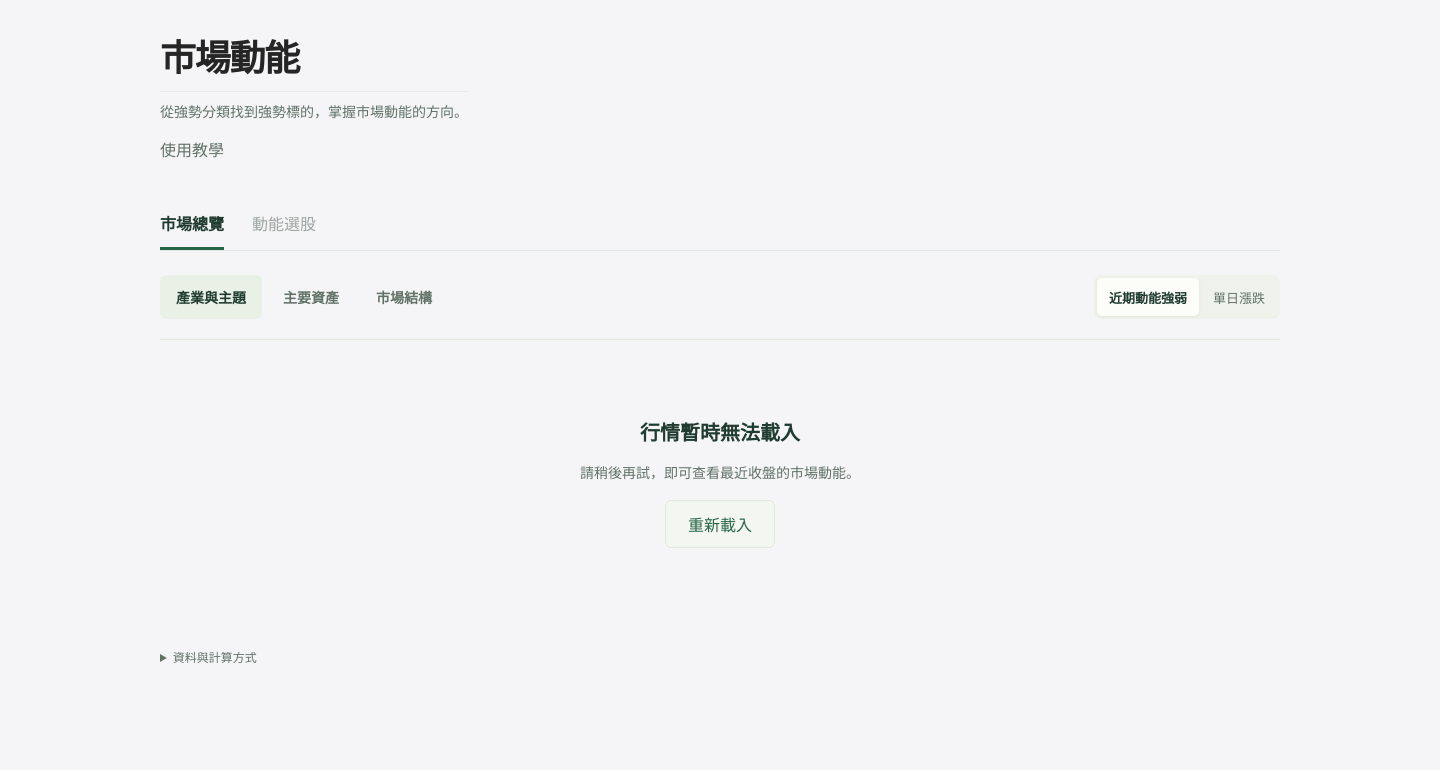
Test case: MomentumDashboardPage › recovers from a failed request with retry
The image size is (1440, 770).
Expected: the message shows "行情暫時無法載入", [640,421,800,445]
What coordinates should you click on to do the following:
click the button "重新載入"
I would click on:
 (720, 524)
Its box is [665,500,775,548].
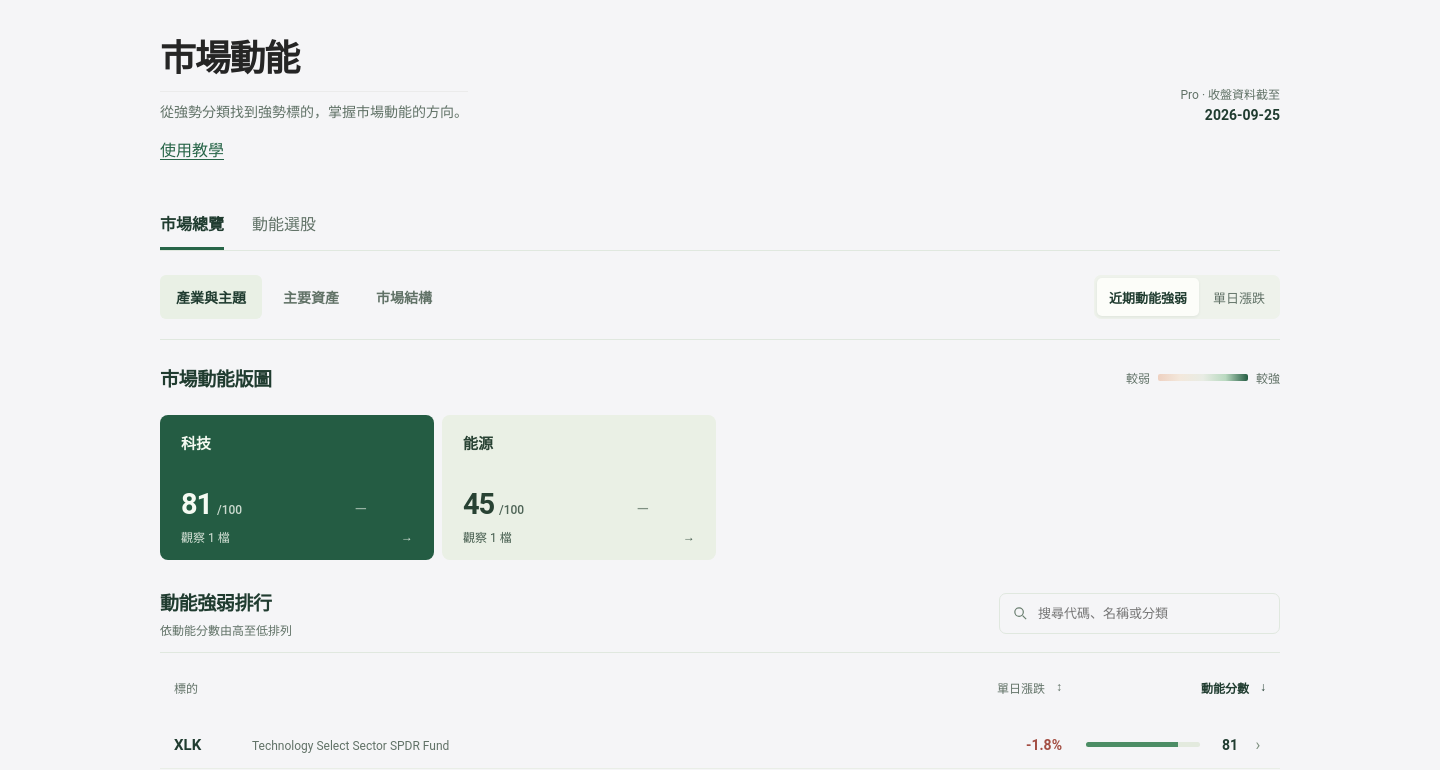
Expected: the text "XLK" is shown, [174,736,201,754]
